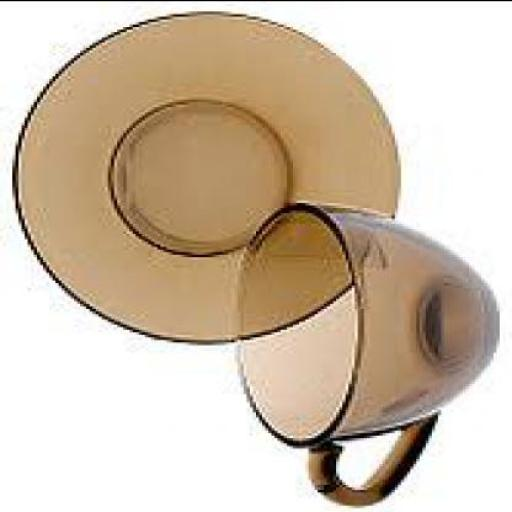glass: (9, 10, 401, 342), (228, 199, 499, 504)
